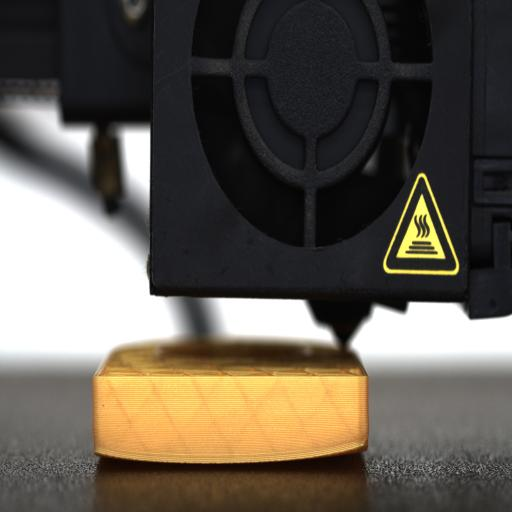warp: (291, 432, 374, 472), (87, 434, 165, 472)
